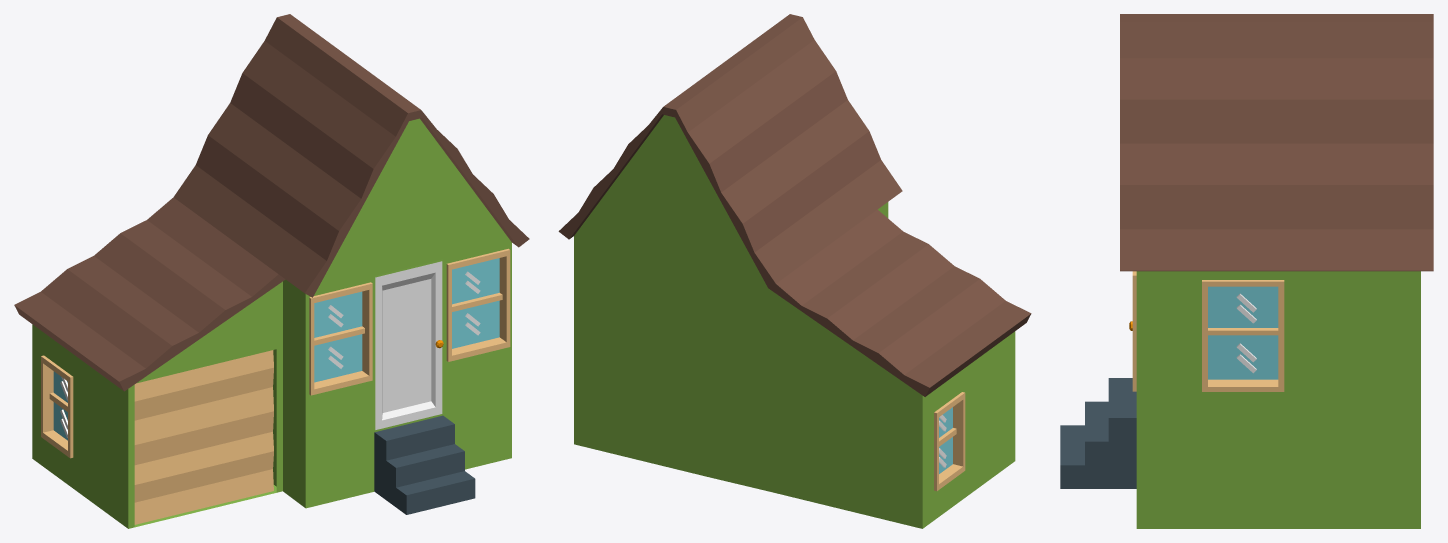
Rendered from HouseComplete.fbx.
The picture shows the model from 3 angles, left to right: view 1: azimuth 30°, elevation 25°; view 2: azimuth 150°, elevation 25°; view 3: azimuth 270°, elevation 25°; orthographic projection. The views are drawn at different scales.
Parts seen in each view (by area): view 1: House, Garage, GarageDoor; view 2: House, Garage; view 3: House.
Boxes of the visible parts, left/top/right/bottom form: House: left=173, top=14, right=529, bottom=514; Garage: left=14, top=197, right=285, bottom=528; GarageDoor: left=134, top=350, right=273, bottom=524; House: left=558, top=14, right=902, bottom=492; Garage: left=768, top=209, right=1031, bottom=528; House: left=1060, top=14, right=1433, bottom=528.
Size of the model in its own units: 10.6 by 9.93 by 7.46.
